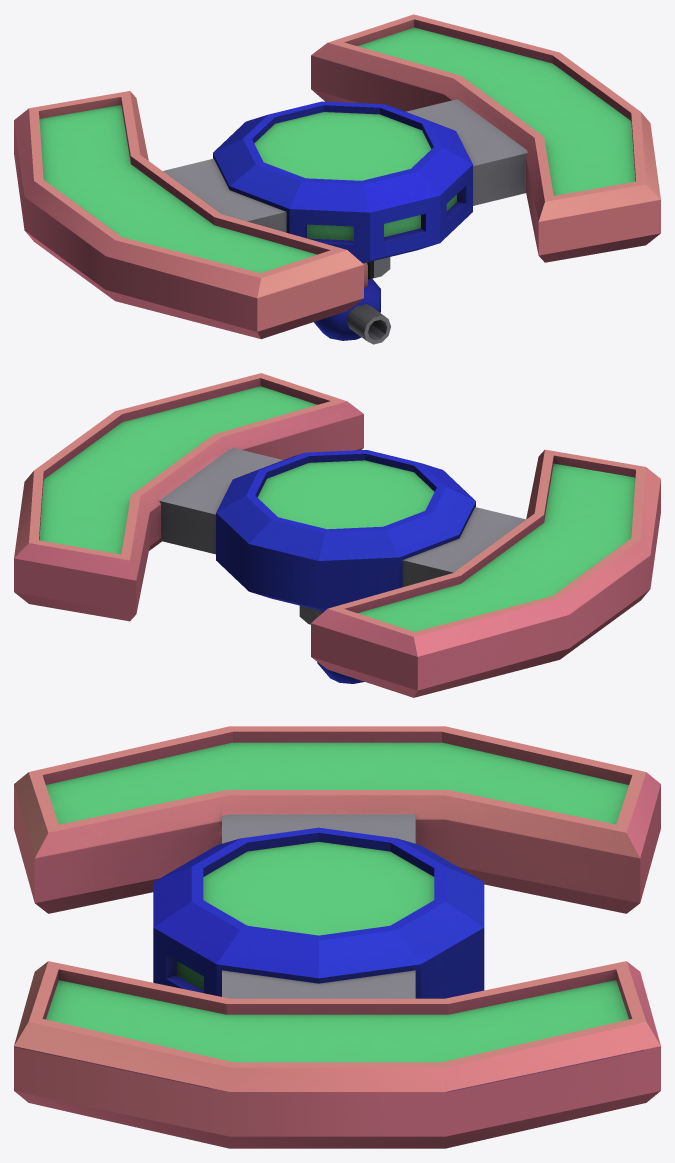
The model's file is enemy_2.obj.
3 renders of one model, top to bottom at view 1: azimuth 30°, elevation 25°; view 2: azimuth 150°, elevation 25°; view 3: azimuth 270°, elevation 25°, orthographic. The views are drawn at different scales.
Parts seen in each view (by area): view 1: Object001; view 2: Object001; view 3: Object001.
Boxes of the visible parts, x1,y1,x2,y2 form: Object001: [14, 14, 660, 344]; Object001: [14, 373, 660, 697]; Object001: [14, 726, 660, 1148].
Bounding box in the file's own units: 299 × 101 × 231.
Materials: 1 (1 with a texture image).
